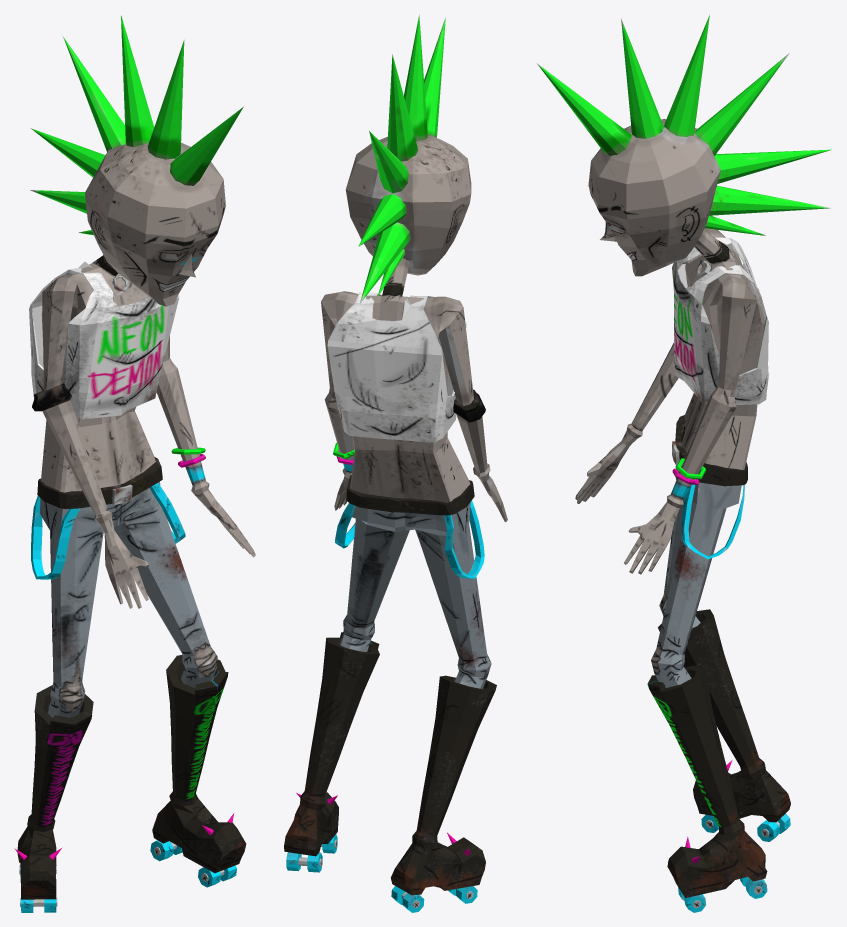
Rendered from punkAnimation_000044.obj.
The picture shows the model from 3 angles, left to right: view 1: azimuth 30°, elevation 25°; view 2: azimuth 150°, elevation 25°; view 3: azimuth 270°, elevation 25°; orthographic projection. The views are drawn at different scales.
Visible parts, largest first — view 1: Cube.004_Cube.003; view 2: Cube.004_Cube.003; view 3: Cube.004_Cube.003.
Boxes of the visible parts, x1,y1,x2,y2 form: Cube.004_Cube.003: (14,15,255,912); Cube.004_Cube.003: (284,15,507,912); Cube.004_Cube.003: (537,14,831,912).
Bounding box in the file's own units: 1.82 × 7.38 × 2.32.
